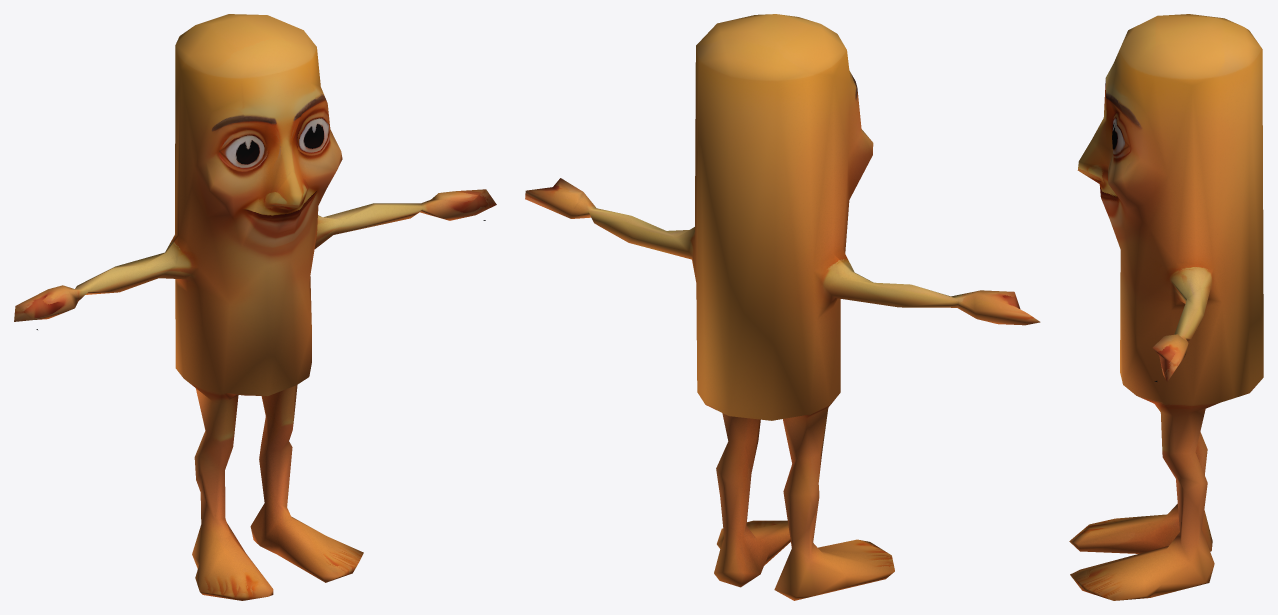
Rendered from StoreTungTung-tpose-game-500-polished.glb.
3 renders of one model, left to right at view 1: azimuth 30°, elevation 25°; view 2: azimuth 150°, elevation 25°; view 3: azimuth 270°, elevation 25°, orthographic. The views are drawn at different scales.
Parts seen in each view (by area): view 1: material; view 2: material; view 3: material.
Boxes of the visible parts, left/top/right/bottom form: material: left=14, top=14, right=496, bottom=600; material: left=525, top=14, right=1040, bottom=600; material: left=1069, top=14, right=1263, bottom=600.
Size of the model in its own units: 1.08 by 1.13 by 0.366.
Materials: 1 (1 with a texture image).
